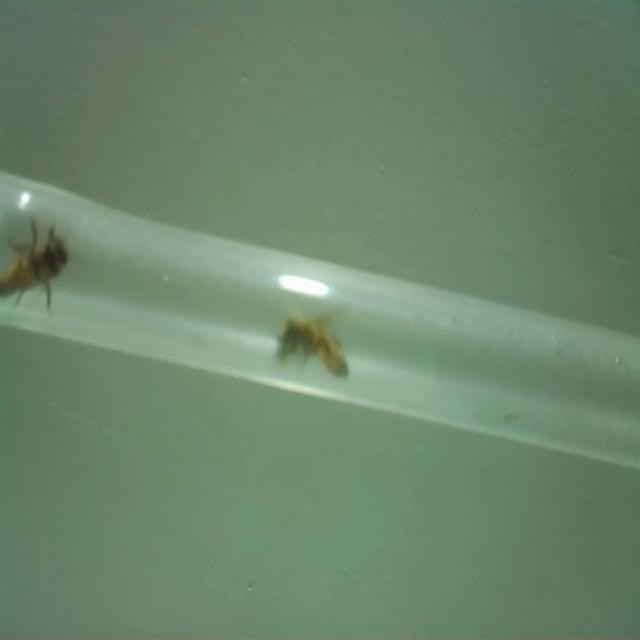Honeybee-Detection: (0, 214, 71, 316), (275, 305, 353, 379)
